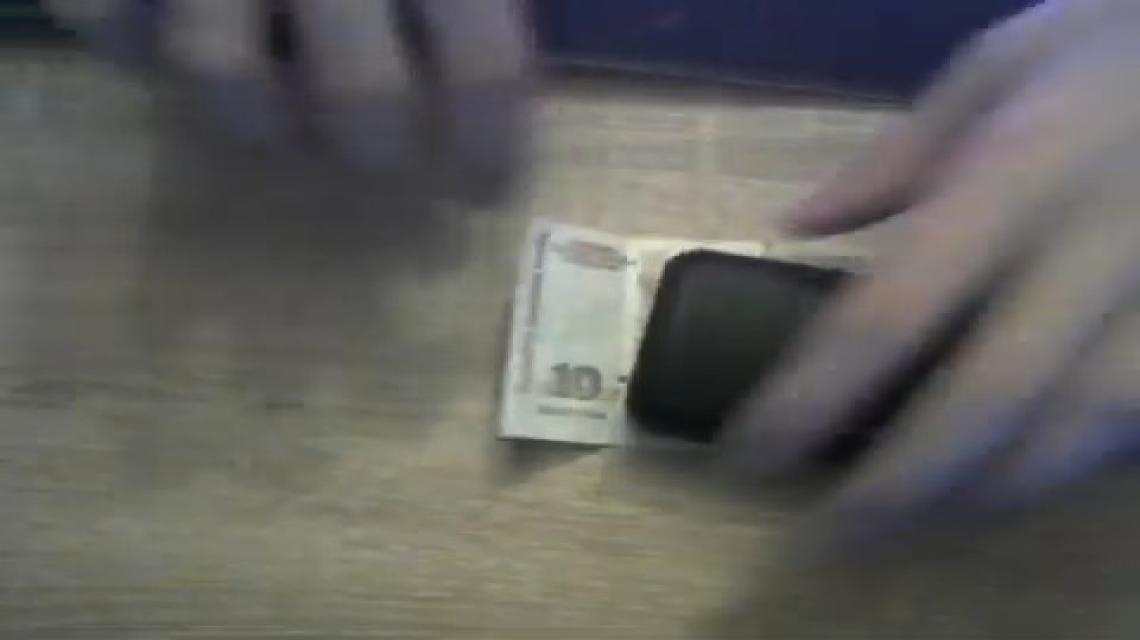10leva: (494, 222, 857, 448)
